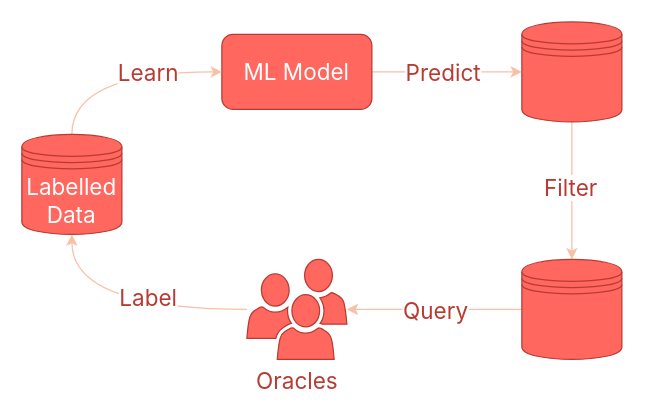
This 648x418 diagram has some shape labels left out. Each missing label, with the centre of its shape:
Prediction Data: (571,71)
Uncertain Data: (571,308)
